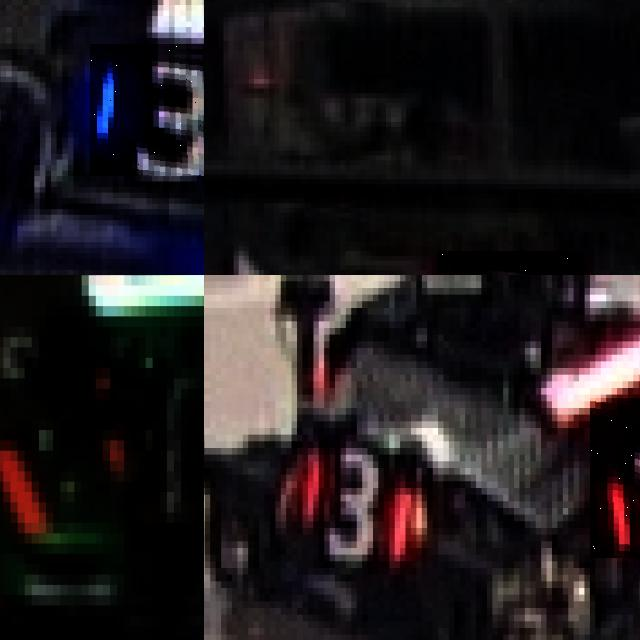B3: (90, 43, 204, 176)
R2: (436, 251, 584, 275)
R3: (272, 415, 424, 581), (590, 398, 640, 558)
